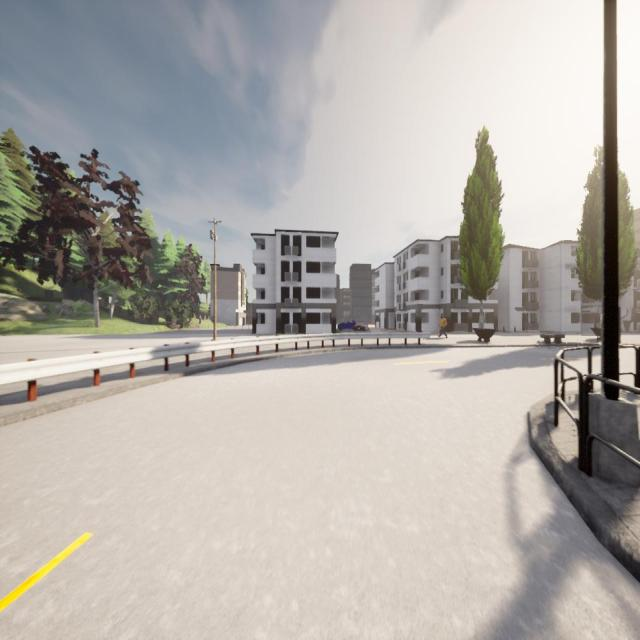Pedestrian: (438, 314, 448, 339)
Vehicle: (338, 320, 356, 331), (354, 321, 368, 331)
